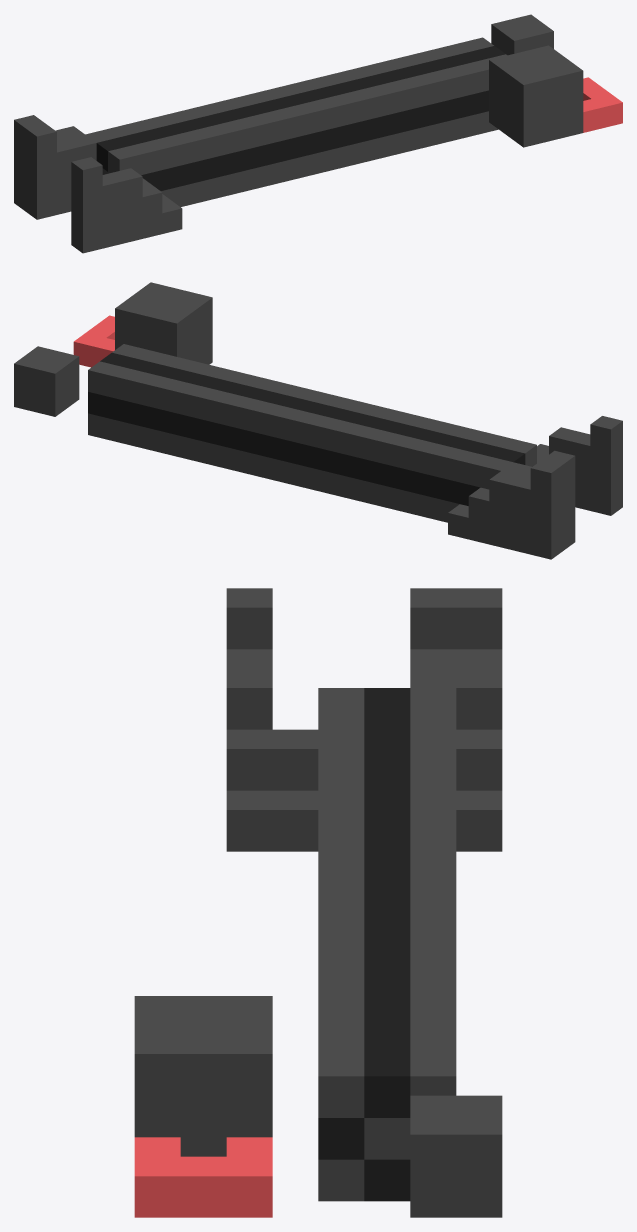
The model's file is printer1slider.obj.
The picture shows the model from 3 angles, top to bottom: view 1: azimuth 30°, elevation 25°; view 2: azimuth 150°, elevation 25°; view 3: azimuth 270°, elevation 25°; orthographic projection. The views are drawn at different scales.
Size of the model in its own units: 2.6 by 0.4 by 0.8.
